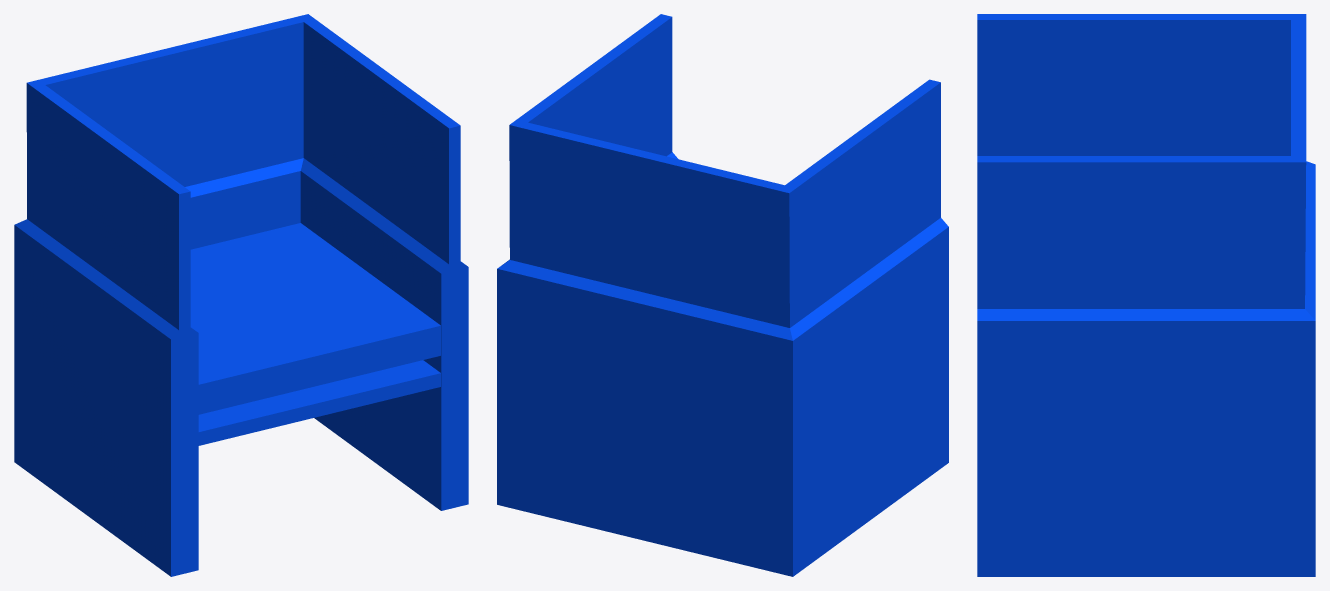
The model's file is study_table_cubicle_1_meshCollider.fbx.
The picture shows the model from 3 angles, left to right: view 1: azimuth 30°, elevation 25°; view 2: azimuth 150°, elevation 25°; view 3: azimuth 270°, elevation 25°; orthographic projection. The views are drawn at different scales.
Visible parts, largest first — view 1: study_table_cubicle_1_meshCollider; view 2: study_table_cubicle_1_meshCollider; view 3: study_table_cubicle_1_meshCollider.
Part boxes in pixels (x1=…): study_table_cubicle_1_meshCollider: x1=14, y1=14, x2=468, y2=576; study_table_cubicle_1_meshCollider: x1=497, y1=14, x2=948, y2=576; study_table_cubicle_1_meshCollider: x1=977, y1=14, x2=1315, y2=576.
Size of the model in its own units: 73.62 by 90.03 by 67.23.
